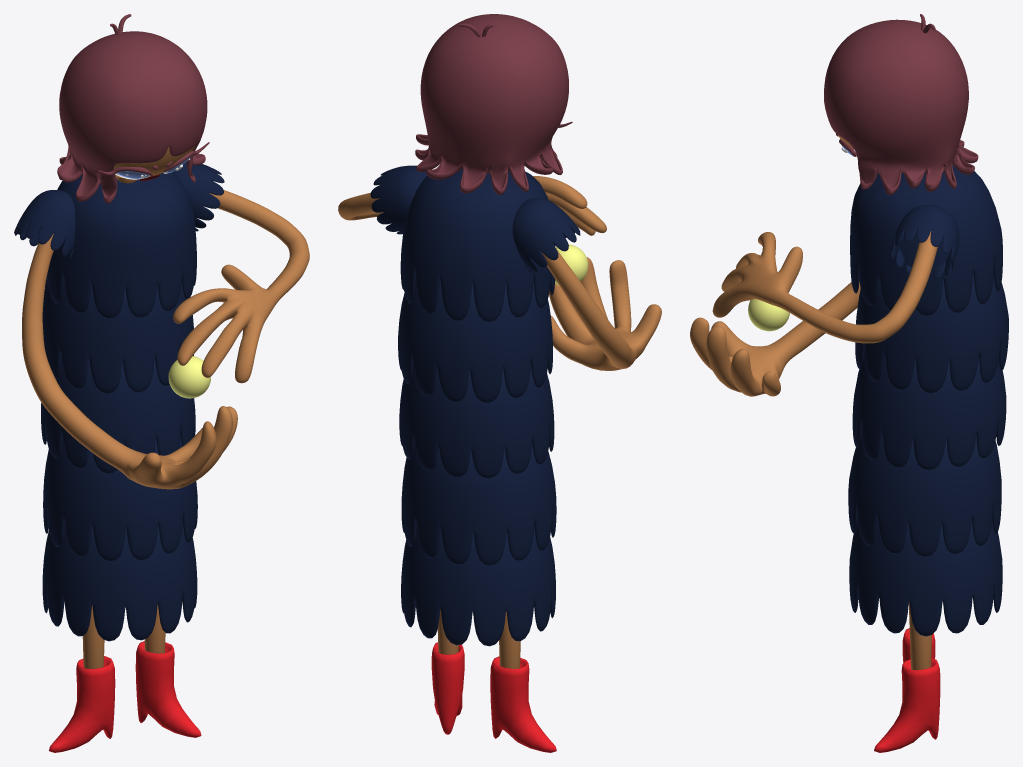
File: witch.glb
The picture shows the model from 3 angles, left to right: view 1: azimuth 30°, elevation 25°; view 2: azimuth 150°, elevation 25°; view 3: azimuth 270°, elevation 25°; orthographic projection.
Parts seen in each view (by area): view 1: Cube.007, Cylinder, Cylinder.004, Cylinder.003, Cylinder.001, vertArm.001, vertArn, Cylinder.002, Cube.003, Cube.004, Cylinder.008, Cylinder.014 (+4 smaller); view 2: Cube.007, Cylinder, Cylinder.003, Cylinder.001, Cylinder.004, Cylinder.002, vertArm.001, Cube.003, Cylinder.008, vertArn, Cylinder.014, Cube.004 (+2 smaller); view 3: Cube.007, Cylinder, Cylinder.003, Cylinder.004, Cylinder.002, Cylinder.001, vertArn, vertArm.001, Cube.004, Cylinder.014, Sphere, Cylinder.007.
Boxes of the visible parts, x1,y1,x2,y2 form: Cube.007: (57,31,207,203); Cylinder: (45,172,196,318); Cylinder.004: (42,523,197,641); Cylinder.003: (43,436,197,561); Cylinder.001: (42,278,193,393); vertArm.001: (22,233,237,489); vertArn: (173,190,309,383); Cylinder.002: (41,355,195,473); Cube.003: (49,656,115,752); Cube.004: (135,641,201,737); Cylinder.008: (14,190,75,260); Cylinder.014: (172,162,224,231); Cube.007: (415,14,568,194); Cylinder: (400,168,555,322); Cylinder.003: (401,444,556,565); Cylinder.001: (398,279,552,403); Cylinder.004: (401,526,555,646); Cylinder.002: (399,365,554,478); vertArm.001: (541,249,661,370); Cube.003: (490,656,556,752); Cylinder.008: (512,197,580,272); vertArn: (338,176,606,235); Cylinder.014: (370,165,427,234); Cube.004: (431,642,464,734); Cube.007: (824,19,978,195); Cylinder: (850,165,1002,316); Cylinder.003: (848,434,1001,557); Cylinder.004: (849,519,1002,636); Cylinder.002: (852,355,1006,470); Cylinder.001: (855,273,1008,393); vertArn: (712,231,937,343); vertArm.001: (690,281,860,396); Cube.004: (874,657,940,752); Cylinder.014: (891,205,959,278); Sphere: (748,299,789,331); Cylinder.007: (908,602,931,670).
Size of the model in its own units: 7.43 by 18.41 by 7.52.
